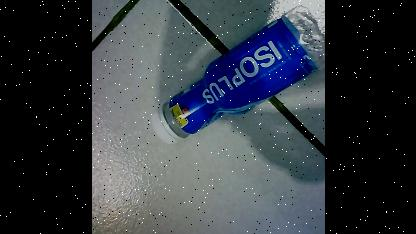Plastic Bottle: (154, 1, 324, 147)
